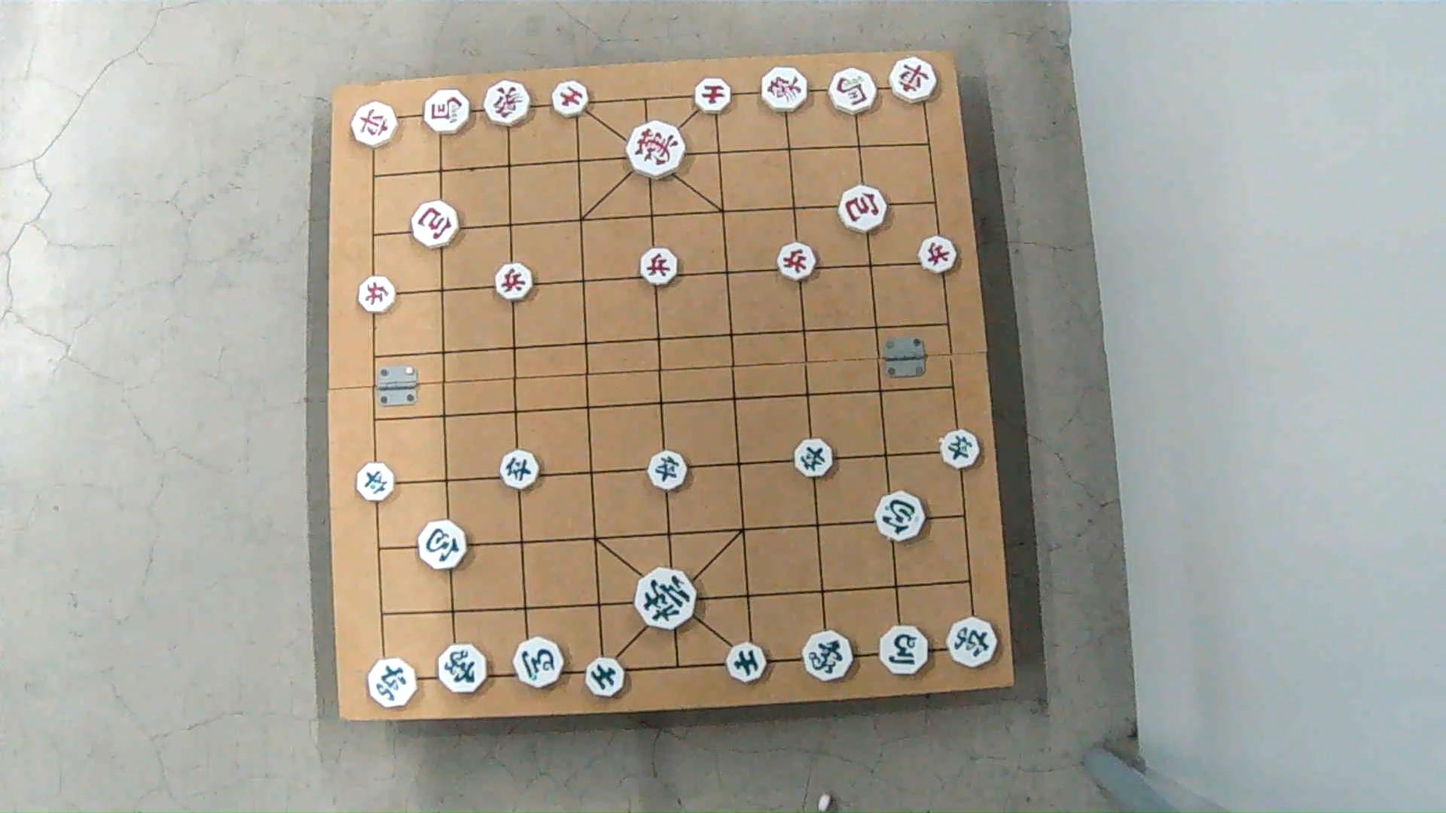cha_green: (947, 617, 998, 669), (368, 659, 416, 707)
cha_red: (349, 102, 400, 149), (888, 58, 936, 100)
jol_green: (647, 450, 688, 489), (940, 431, 983, 468), (794, 439, 834, 477), (498, 449, 538, 487), (353, 464, 394, 501)
jol_red: (776, 244, 818, 280), (639, 249, 679, 285), (917, 237, 958, 272), (492, 264, 531, 300), (357, 276, 395, 311)
ma_green: (878, 625, 929, 677), (513, 639, 563, 687)
ma_red: (828, 69, 878, 117), (423, 89, 471, 137)
po_green: (416, 521, 468, 570), (875, 493, 926, 540)
po_red: (410, 201, 459, 245), (838, 187, 886, 230)
sa_green: (587, 657, 627, 698), (725, 644, 766, 683)
sa_red: (552, 82, 591, 116), (694, 81, 734, 113)
sang_green: (801, 629, 853, 682), (437, 642, 486, 694)
sang_red: (760, 68, 810, 111), (481, 82, 531, 124)
wang_green: (633, 570, 700, 633)
wang_red: (627, 122, 685, 176)
